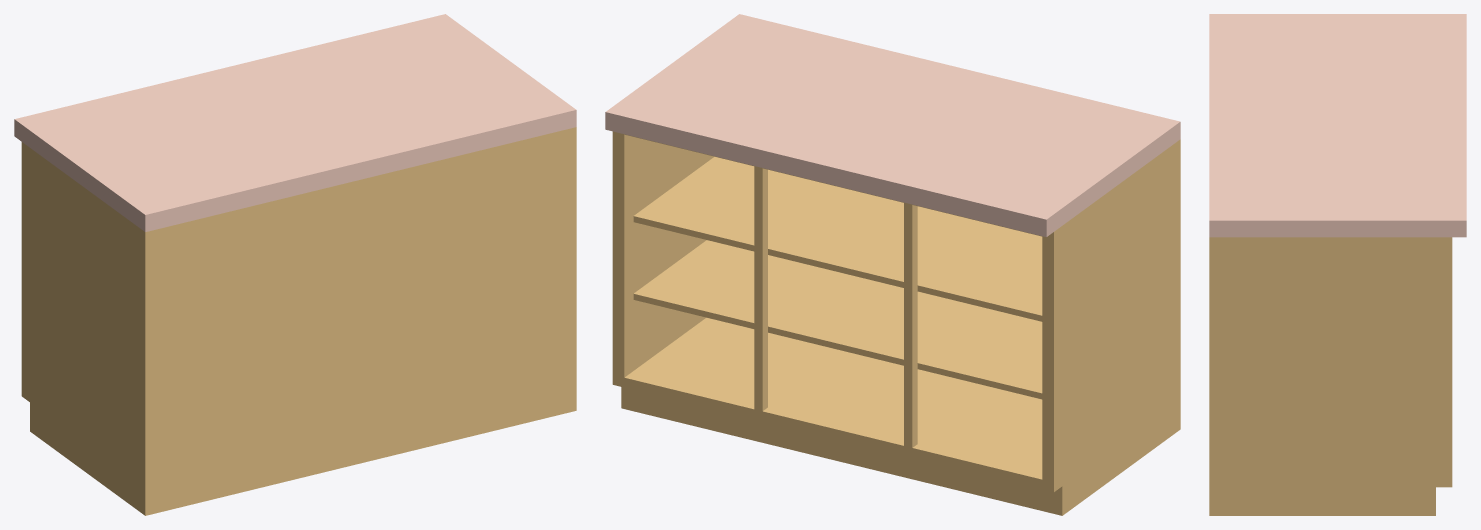
The model's file is Kitchen_Counter.FBX.
3 views of the same model, side by side, from view 1: azimuth 30°, elevation 25°; view 2: azimuth 150°, elevation 25°; view 3: azimuth 270°, elevation 25° (orthographic). The views are drawn at different scales.
Parts seen in each view (by area): view 1: Kitchen_Counter_001; view 2: Kitchen_Counter_001; view 3: Kitchen_Counter_001.
Boxes of the visible parts, bbox=[...] form: Kitchen_Counter_001: bbox=[14, 14, 576, 515]; Kitchen_Counter_001: bbox=[605, 14, 1180, 515]; Kitchen_Counter_001: bbox=[1209, 14, 1466, 515].
Bounding box in the file's own units: 1.5 × 1 × 0.789.
